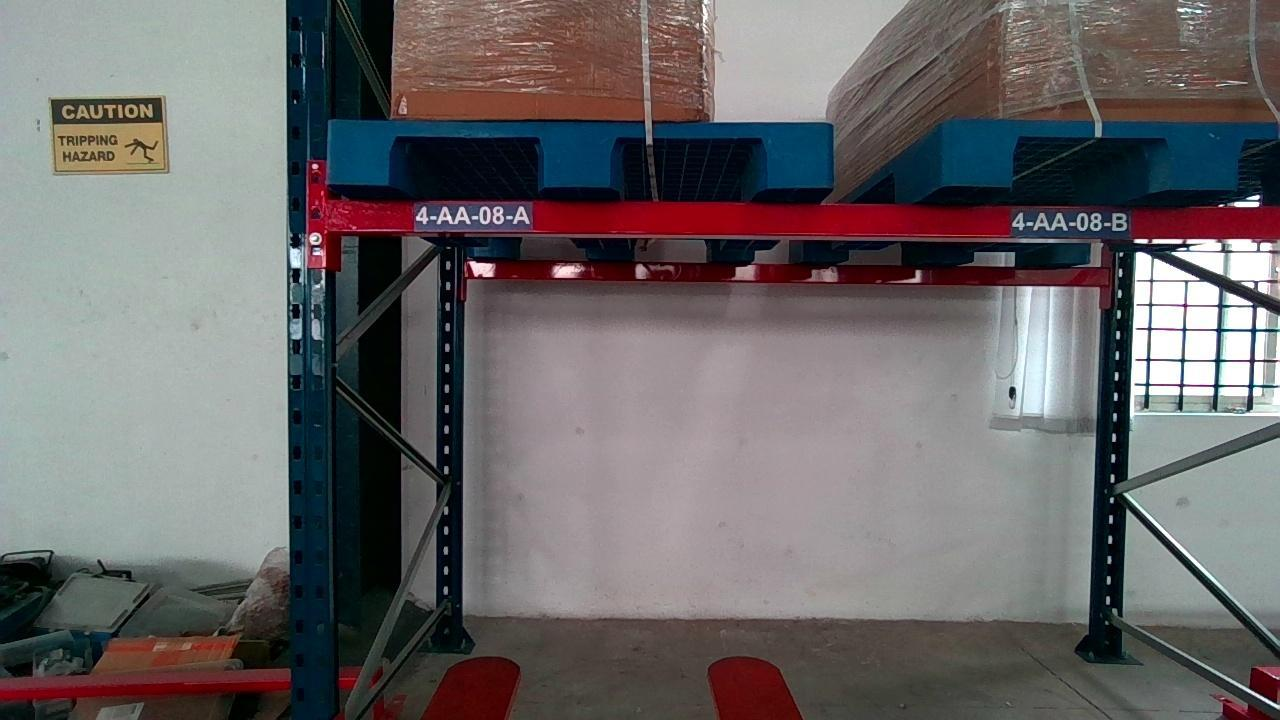h_rack: (321, 202, 1277, 236)
small_pallet: (325, 118, 834, 187), (946, 120, 1280, 194)
